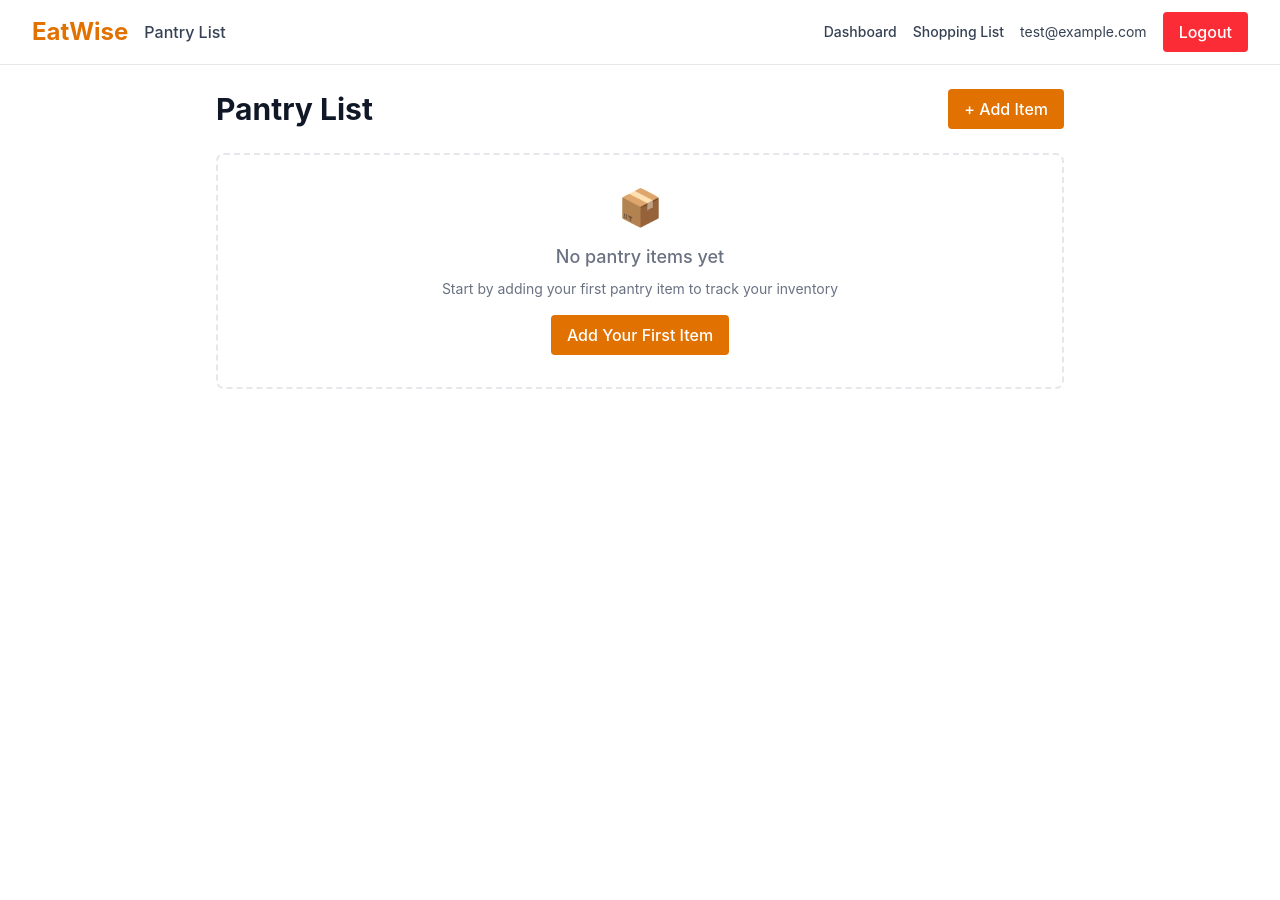
it: PantryList › should add new item to pantry list
Click the button "+ Add Item": (1006, 109) [948,89,1064,129]
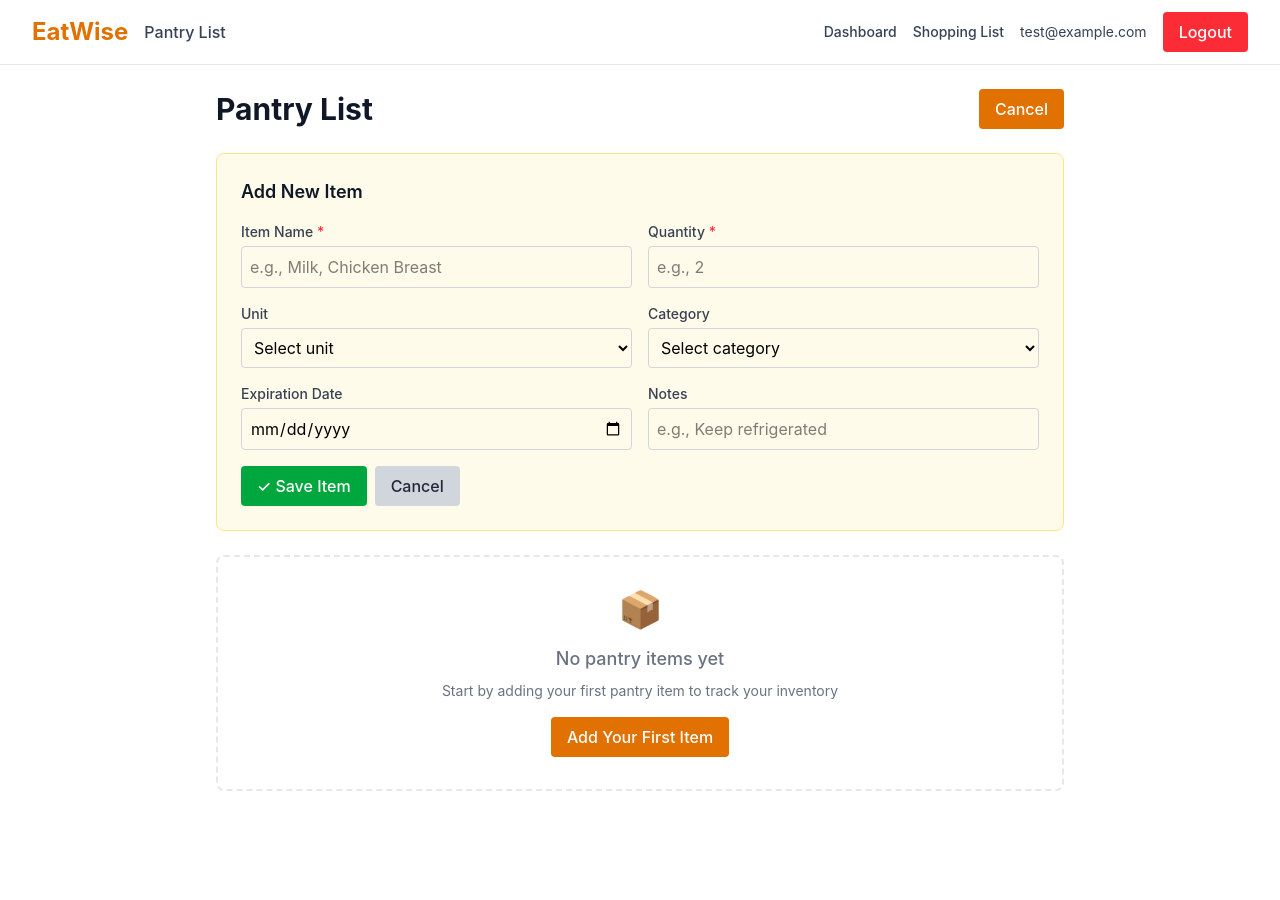
In the field with placeholder "e.g., Milk, Chicken Breast": (436, 267) [241,246,632,288], type "Apples"
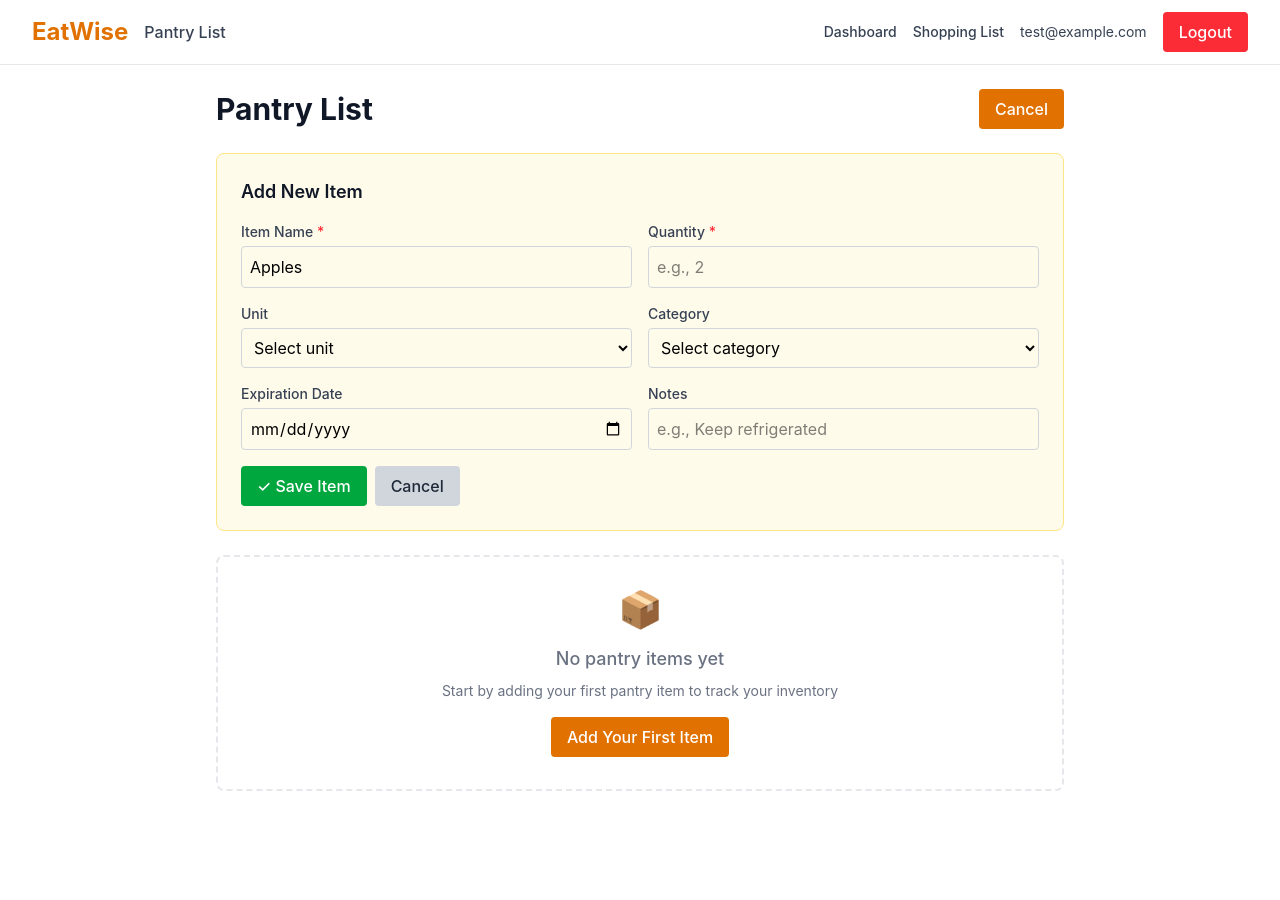
In the number field with placeholder "e.g., 2": (844, 267) [648,246,1039,288], type "5"
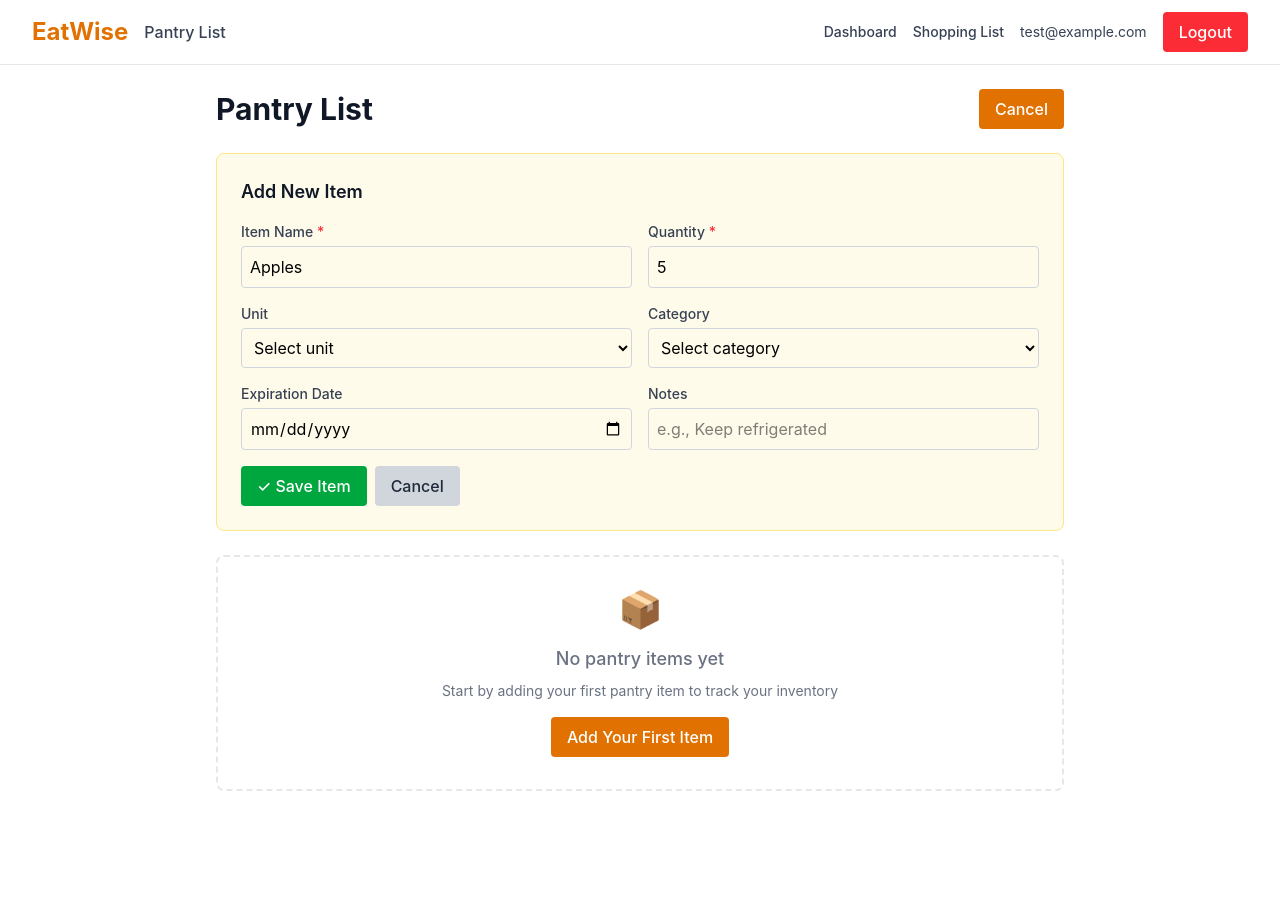
Submit the form, box [216,153,1064,531]
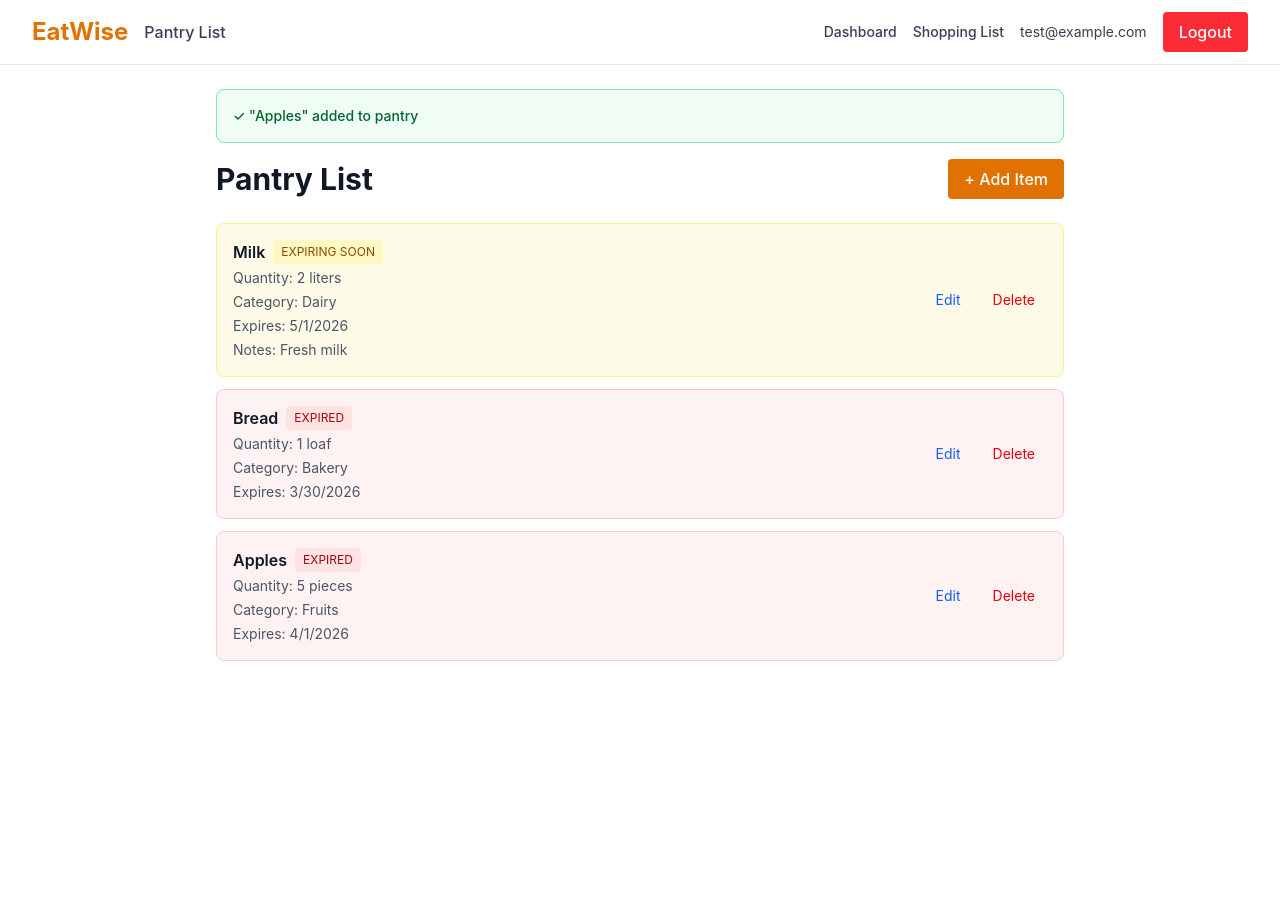
expect the text "Apples" is shown: met, box [233,548,287,572]
